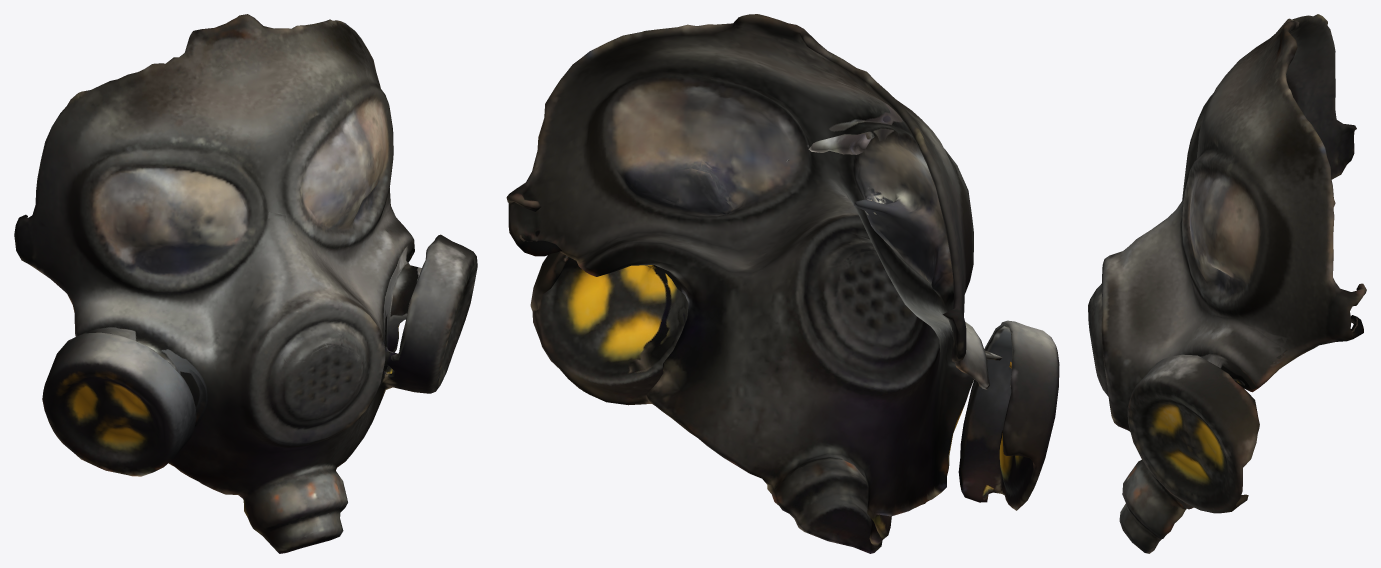
The model's file is gas_mask.glb.
3 views of the same model, side by side, from view 1: azimuth 30°, elevation 25°; view 2: azimuth 150°, elevation 25°; view 3: azimuth 270°, elevation 25° (orthographic). The views are drawn at different scales.
Parts seen in each view (by area): view 1: geo1; view 2: geo1; view 3: geo1.
Part boxes in pixels (x1,y1,x2,y2): geo1: (14, 14, 477, 553); geo1: (506, 14, 1059, 553); geo1: (1088, 14, 1366, 553).
Size of the model in its own units: 0.2164 by 0.2354 by 0.1173.
Materials: 1 (1 with a texture image).
